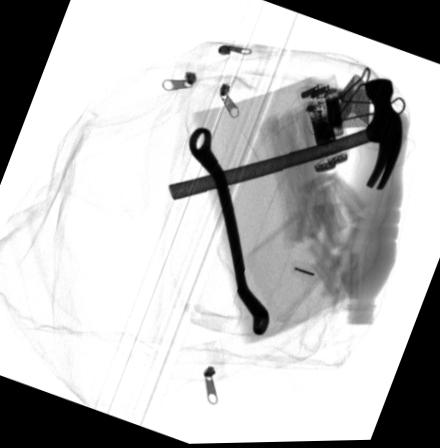Hammer: (167, 79, 402, 199)
Wrench: (189, 127, 269, 335)
